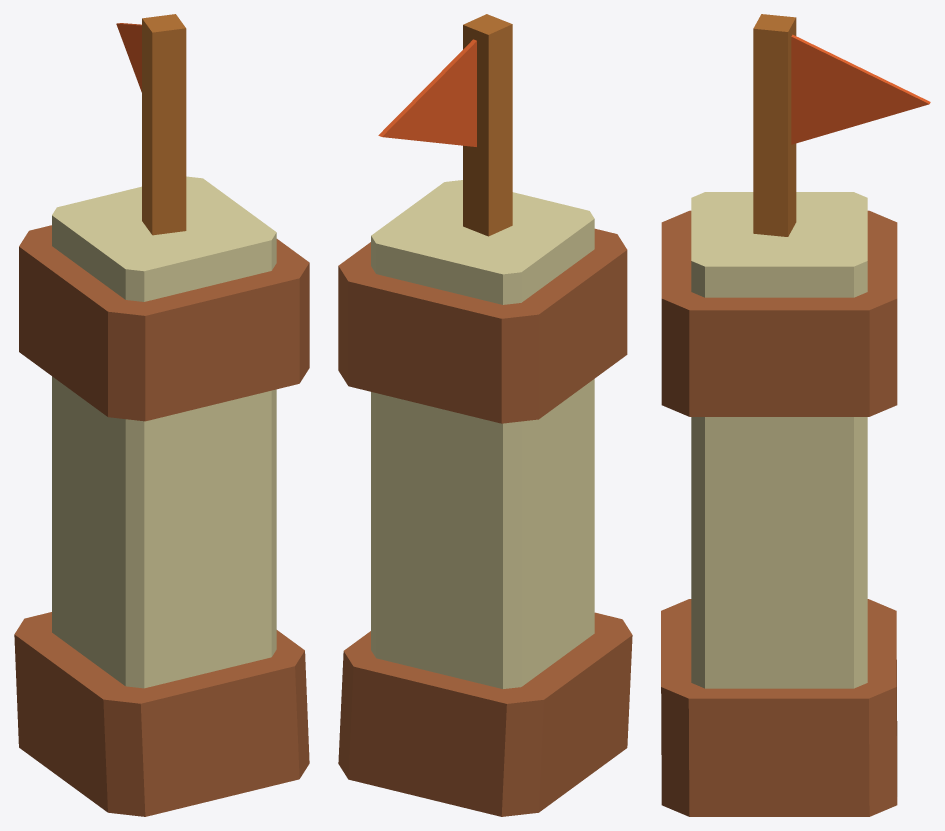
Rendered from gate_column.fbx.
3 renders of one model, left to right at view 1: azimuth 30°, elevation 25°; view 2: azimuth 150°, elevation 25°; view 3: azimuth 270°, elevation 25°, orthographic.
Parts seen in each view (by area): view 1: gate_column; view 2: gate_column; view 3: gate_column.
Part boxes in pixels (x1,y1,x2,y2): gate_column: (14, 14, 309, 816); gate_column: (338, 14, 632, 816); gate_column: (661, 14, 930, 816).
Bounding box in the file's own units: 81.95 × 279 × 91.66.
